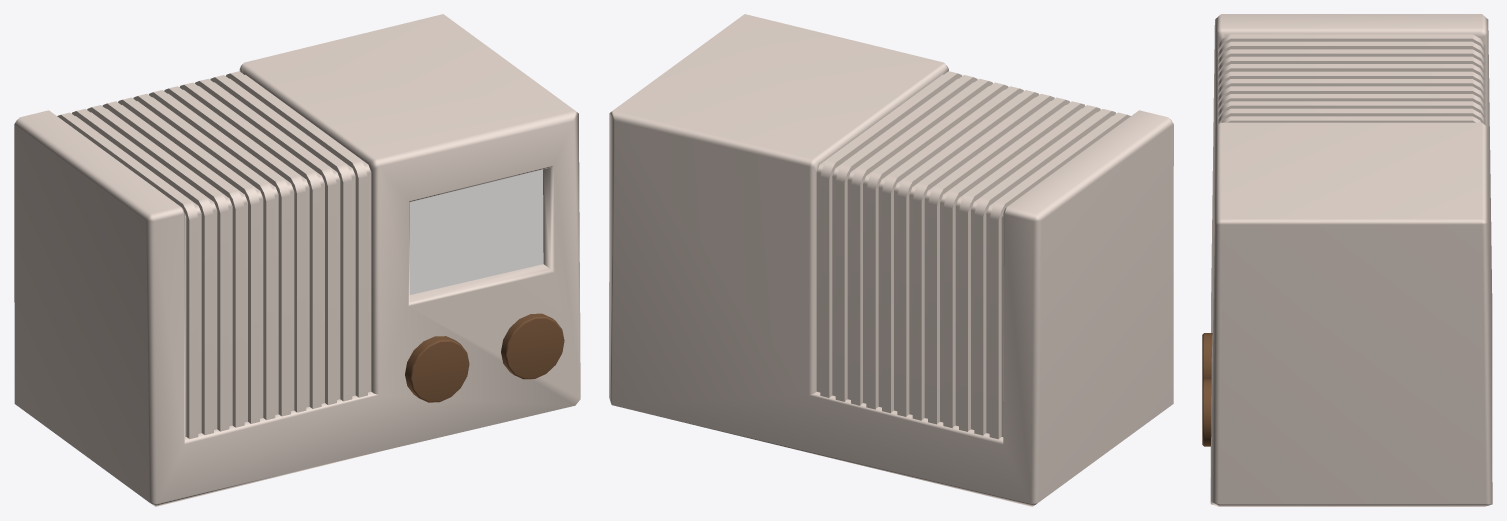
Rendered from Old_Radio_1.glb.
3 renders of one model, left to right at view 1: azimuth 30°, elevation 25°; view 2: azimuth 150°, elevation 25°; view 3: azimuth 270°, elevation 25°, orthographic.
Parts seen in each view (by area): view 1: Old_Radio_1; view 2: Old_Radio_1; view 3: Old_Radio_1.
Boxes of the visible parts, x1=… form: Old_Radio_1: x1=14, y1=14, x2=580, y2=506; Old_Radio_1: x1=609, y1=14, x2=1173, y2=506; Old_Radio_1: x1=1202, y1=14, x2=1492, y2=506.
Bounding box in the file's own units: 0.4788 × 0.3089 × 0.2803.
1 material, 1 textured.
